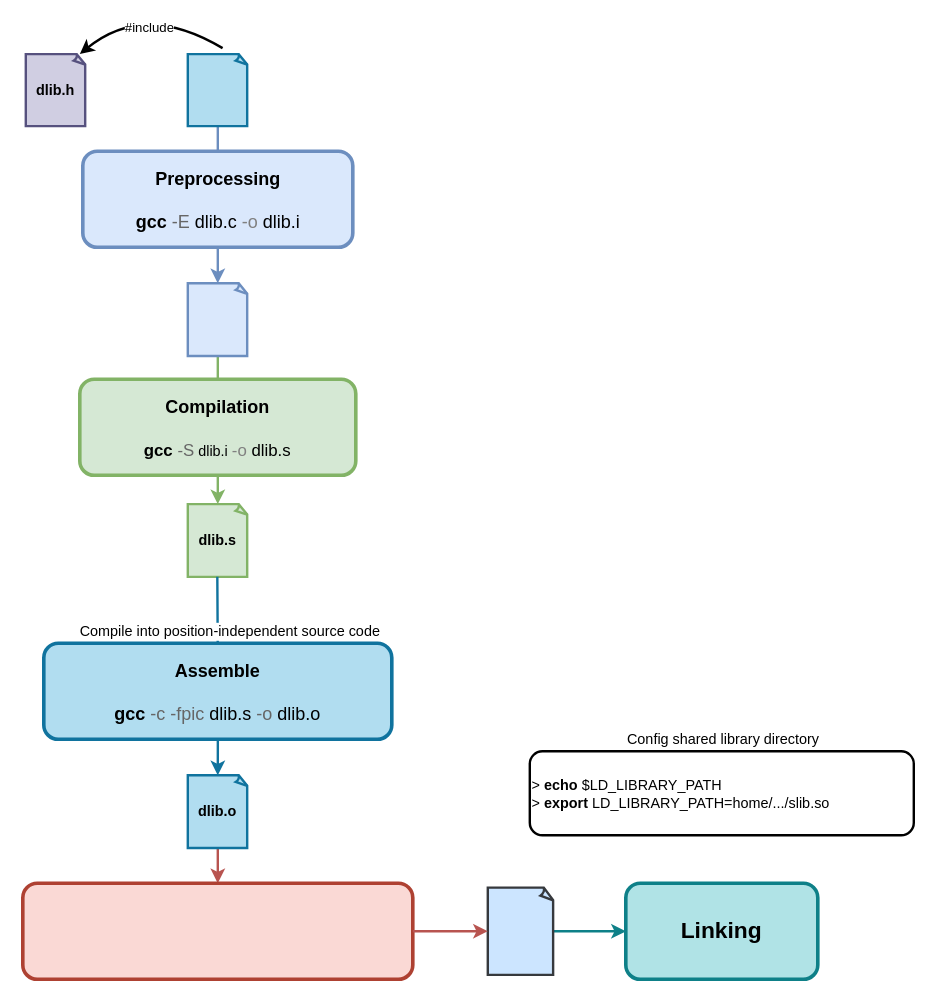
The diagram is 935 pixels wide and 1002 high, and some of its shapes have lost their labels. Each missing label, with the centre of its shape:
dlib.c: point 217,89
dlib.i: point 217,319
dlib.so: point 520,930
Shared/Dynamic library generation gcc -shared -o dlib.so dlib.o: point 217,931
